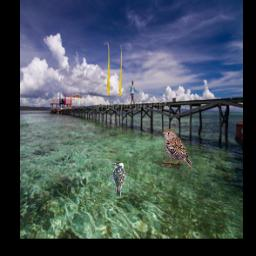Sparrow: (163, 129, 193, 169)
Woodpecker: (104, 162, 127, 198)
